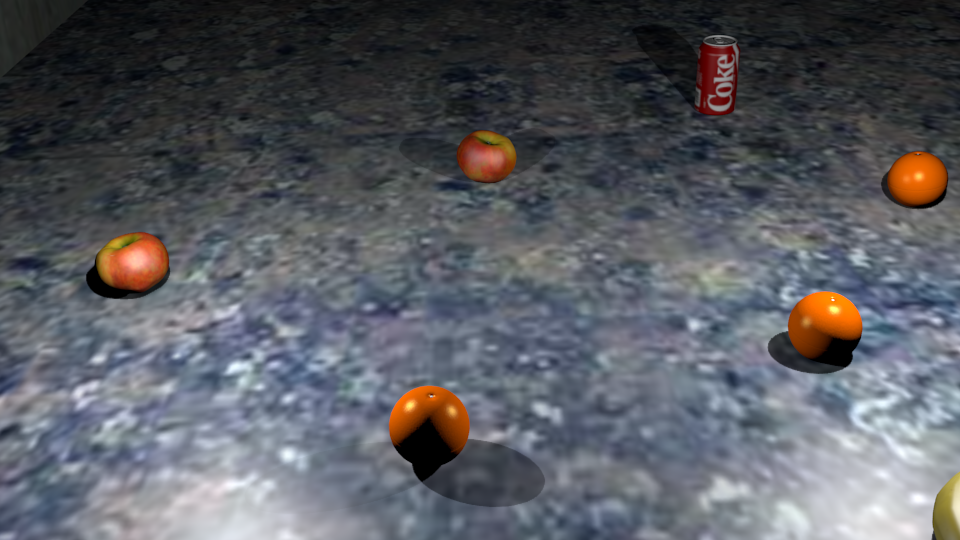apple: (527, 182, 622, 252), (545, 179, 644, 244), (98, 233, 169, 290), (457, 131, 517, 182), (857, 507, 942, 540)
banana: (1, 44, 142, 185), (468, 170, 641, 204), (933, 472, 960, 540)
cola_can: (549, 123, 626, 262), (484, 400, 556, 464), (697, 36, 740, 117)
orange: (395, 420, 479, 496), (389, 386, 470, 451), (788, 292, 863, 355), (375, 230, 445, 290), (888, 152, 947, 204), (423, 129, 477, 178)
